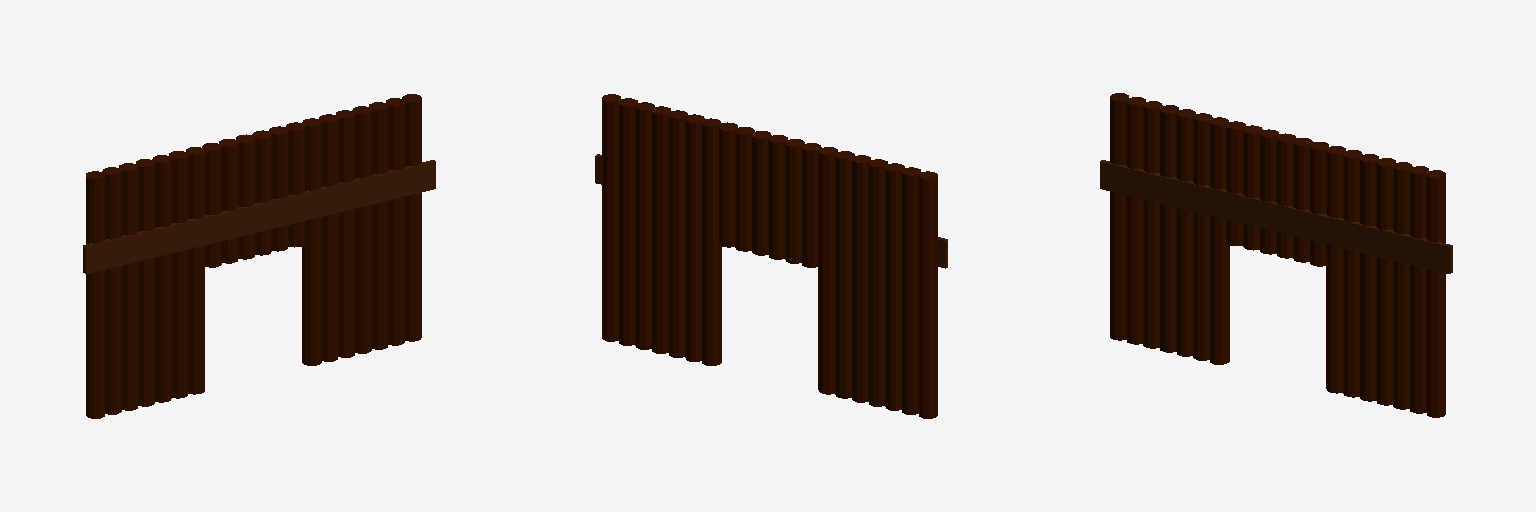
The model's file is puertaVallaAbierta.obj.
3 renders of one model, left to right at view 1: azimuth 30°, elevation 25°; view 2: azimuth 150°, elevation 25°; view 3: azimuth 330°, elevation 25°, orthographic.
Parts seen in each view (by area): view 1: Cylinder.015_Cylinder.016, Cube_Cube.001; view 2: Cylinder.015_Cylinder.016; view 3: Cylinder.015_Cylinder.016, Cube_Cube.001.
Boxes of the visible parts, box(x1,y1,x2,y2) form: Cylinder.015_Cylinder.016: box(86, 94, 421, 418); Cube_Cube.001: box(83, 160, 435, 273); Cylinder.015_Cylinder.016: box(602, 94, 937, 418); Cylinder.015_Cylinder.016: box(1110, 93, 1445, 417); Cube_Cube.001: box(1100, 160, 1452, 273).
Bounding box in the file's own units: 8 × 5.22 × 0.409.